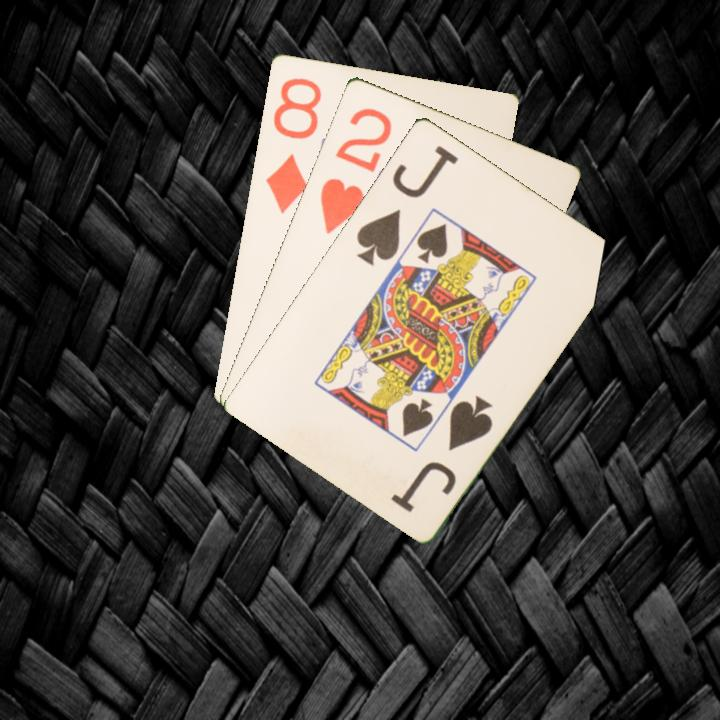2h: (316, 103, 395, 237)
8d: (262, 73, 324, 216)
Js: (352, 141, 461, 269), (387, 390, 496, 515)
